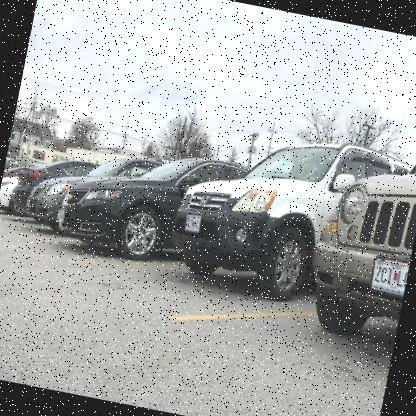License-Plate: (367, 254, 410, 299), (183, 212, 204, 235)
